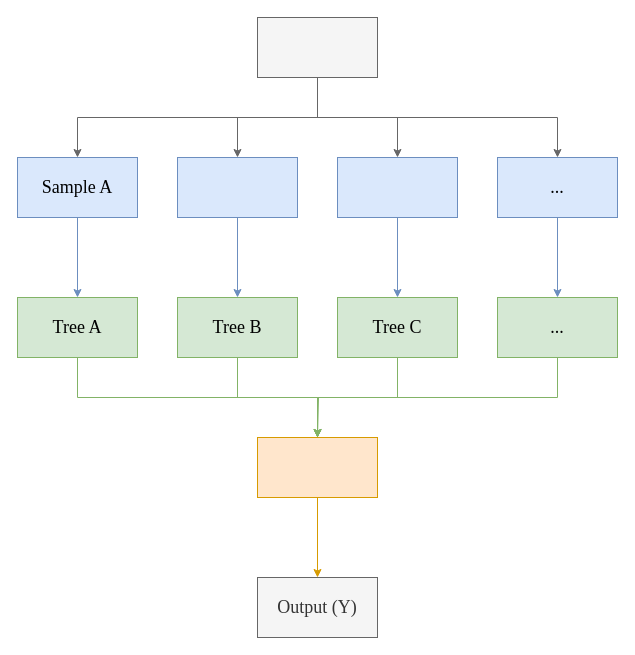
Some shapes in this 635 by 655 pixel diagram are drawn without their labels. The centre of each missing label's shape, as x and y in pixels:
Combine: (317,467)
Input (X): (317,47)
Sample B: (237,187)
Sample C: (397,187)
